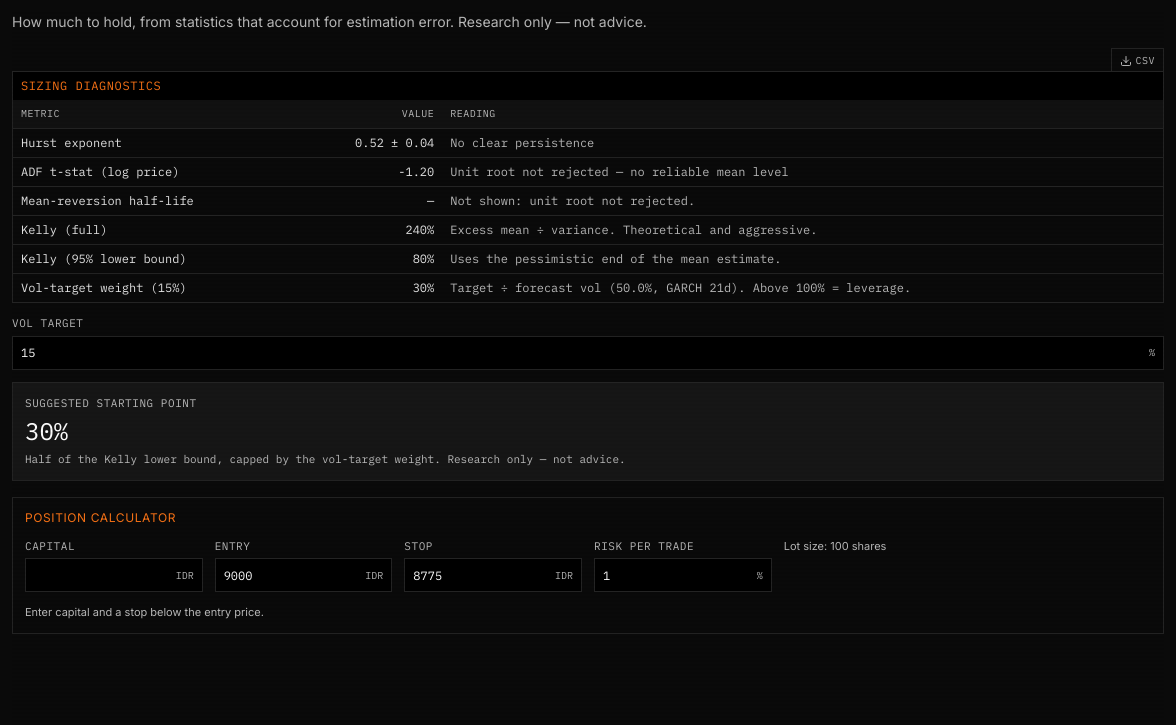
Test: SizingSection › sizes an IDX position in lots of 100
This screenshot has width=1176, height=725.
Type "100000000" into the number field labelled "Capital".
click(101, 575); type("100000000")  # box [26,559,176,591]
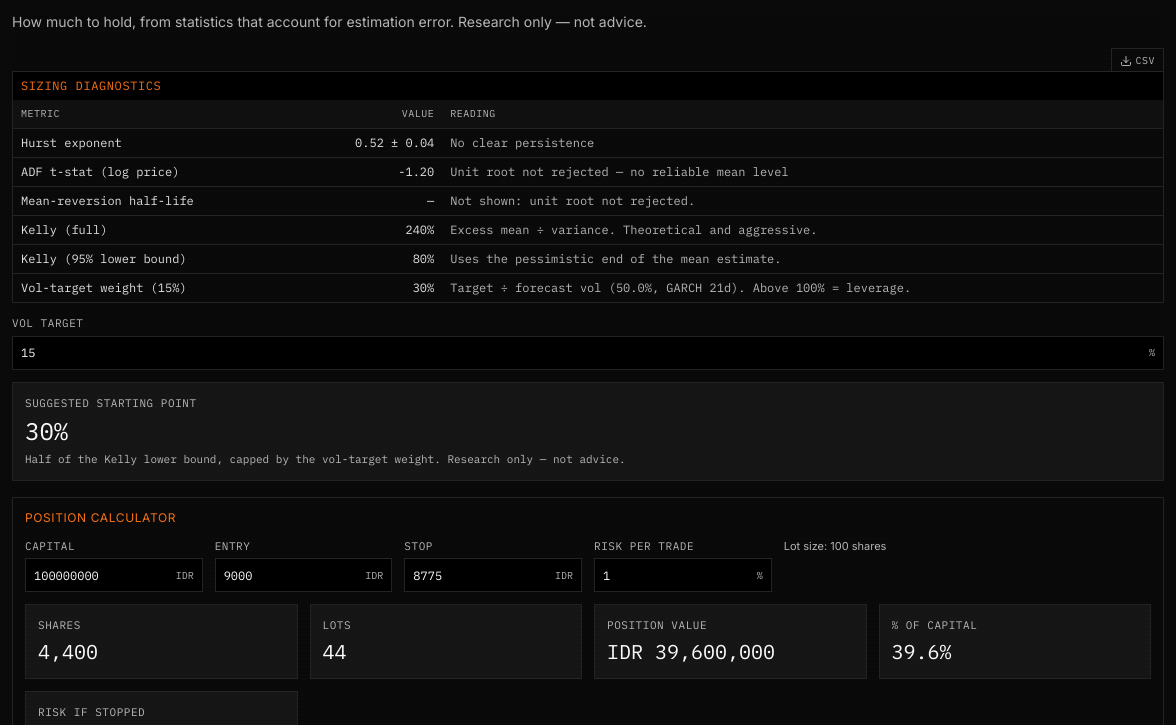
Replace the text in the number field labelled "Stop" with "8550" at (480, 575), box [405,559,555,591]
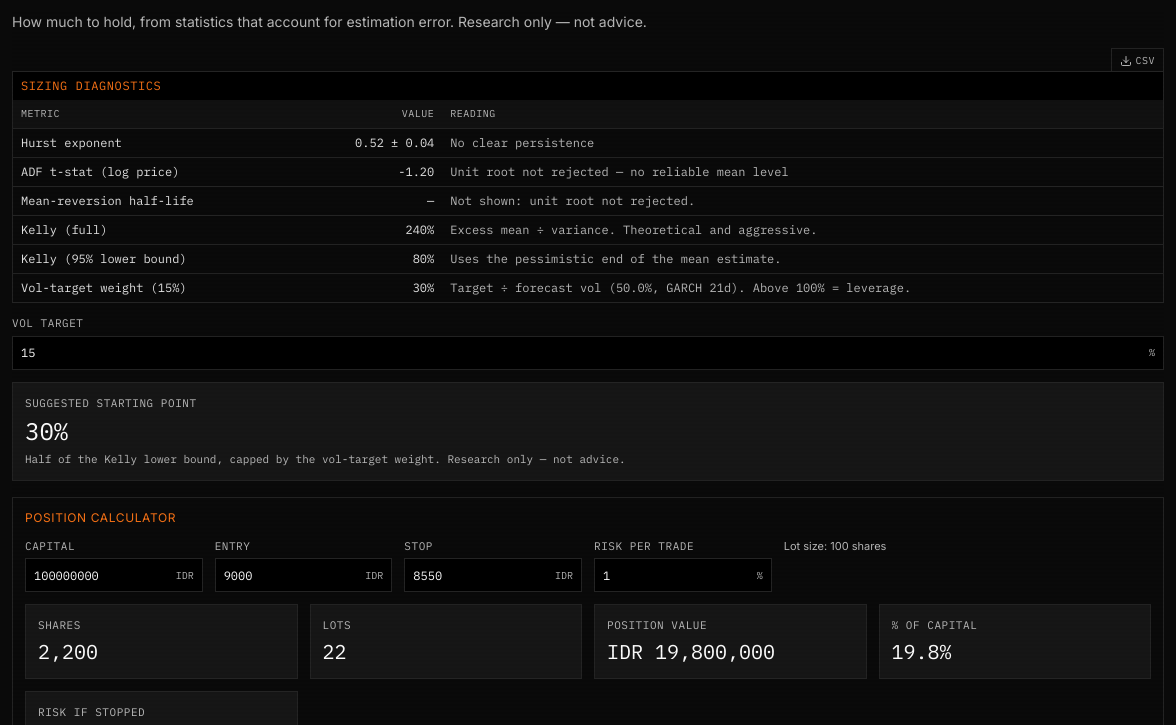
Expected: the text "Lot size: 100 shares" is shown, [784,538,886,552]
Expected: the text "22" is shown, [322,638,346,664]
